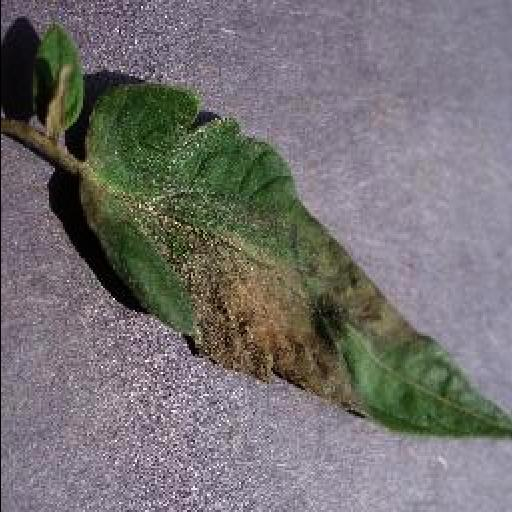disease_tomato: (80, 76, 512, 438)
